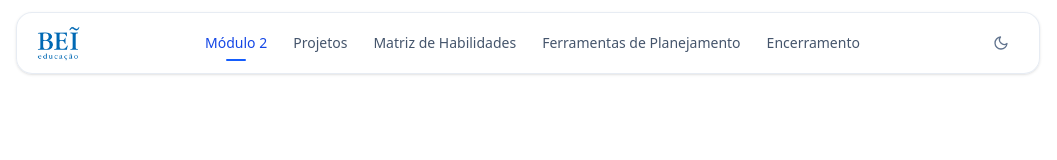
Navbar › alterna aria-label para "Modo claro" após clicar no toggle
The image size is (1057, 160).
What coordinates should you click on to do the following:
click the button named "Modo escuro"
I would click on:
 (1001, 43)
Its box is [983,25,1019,61].
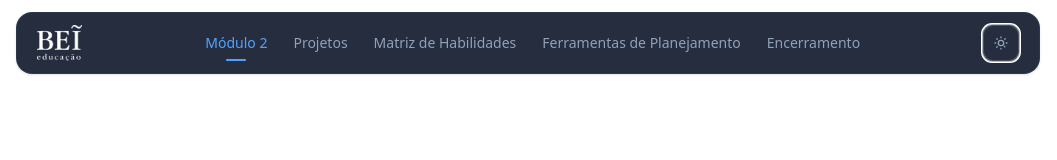
Now the button named "Modo claro" is shown, box [983,25,1019,61]
